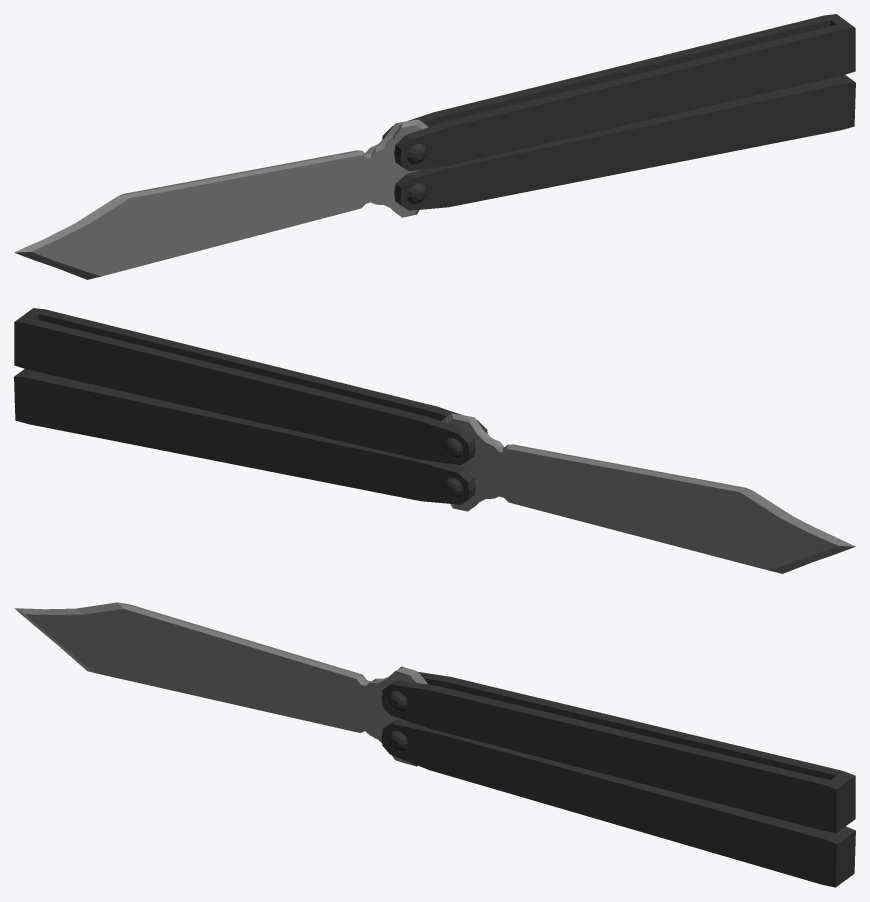
File: Balisong.fbx
The picture shows the model from 3 angles, top to bottom: view 1: azimuth 30°, elevation 25°; view 2: azimuth 150°, elevation 25°; view 3: azimuth 330°, elevation 25°; orthographic projection.
Parts seen in each view (by area): view 1: Cube.002, Cube, Cube.001; view 2: Cube.002, Cube, Cube.001; view 3: Cube.002, Cube, Cube.001.
Part boxes in pixels (left/top/right/bottom): Cube.002: left=382, top=14, right=855, bottom=171; Cube: left=14, top=119, right=428, bottom=279; Cube.001: left=394, top=75, right=855, bottom=210; Cube.002: left=14, top=308, right=487, bottom=465; Cube: left=441, top=413, right=855, bottom=573; Cube.001: left=14, top=369, right=475, bottom=504; Cube.002: left=381, top=672, right=855, bottom=832; Cube: left=14, top=602, right=427, bottom=766; Cube.001: left=381, top=719, right=855, bottom=887.
Size of the model in its own units: 845 by 102 by 43.77.
